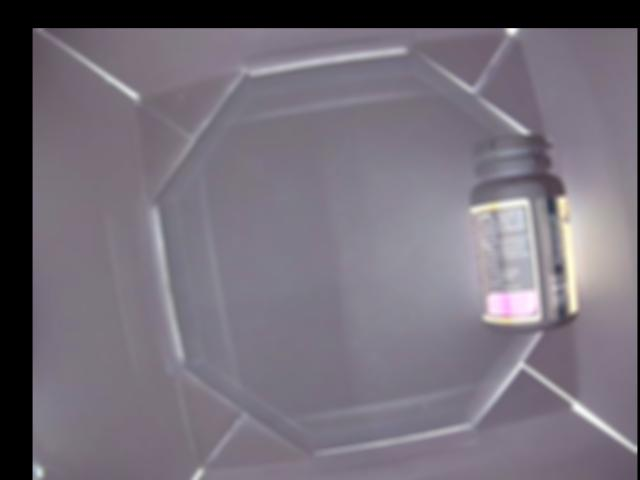Bottle: (472, 134, 582, 326)
